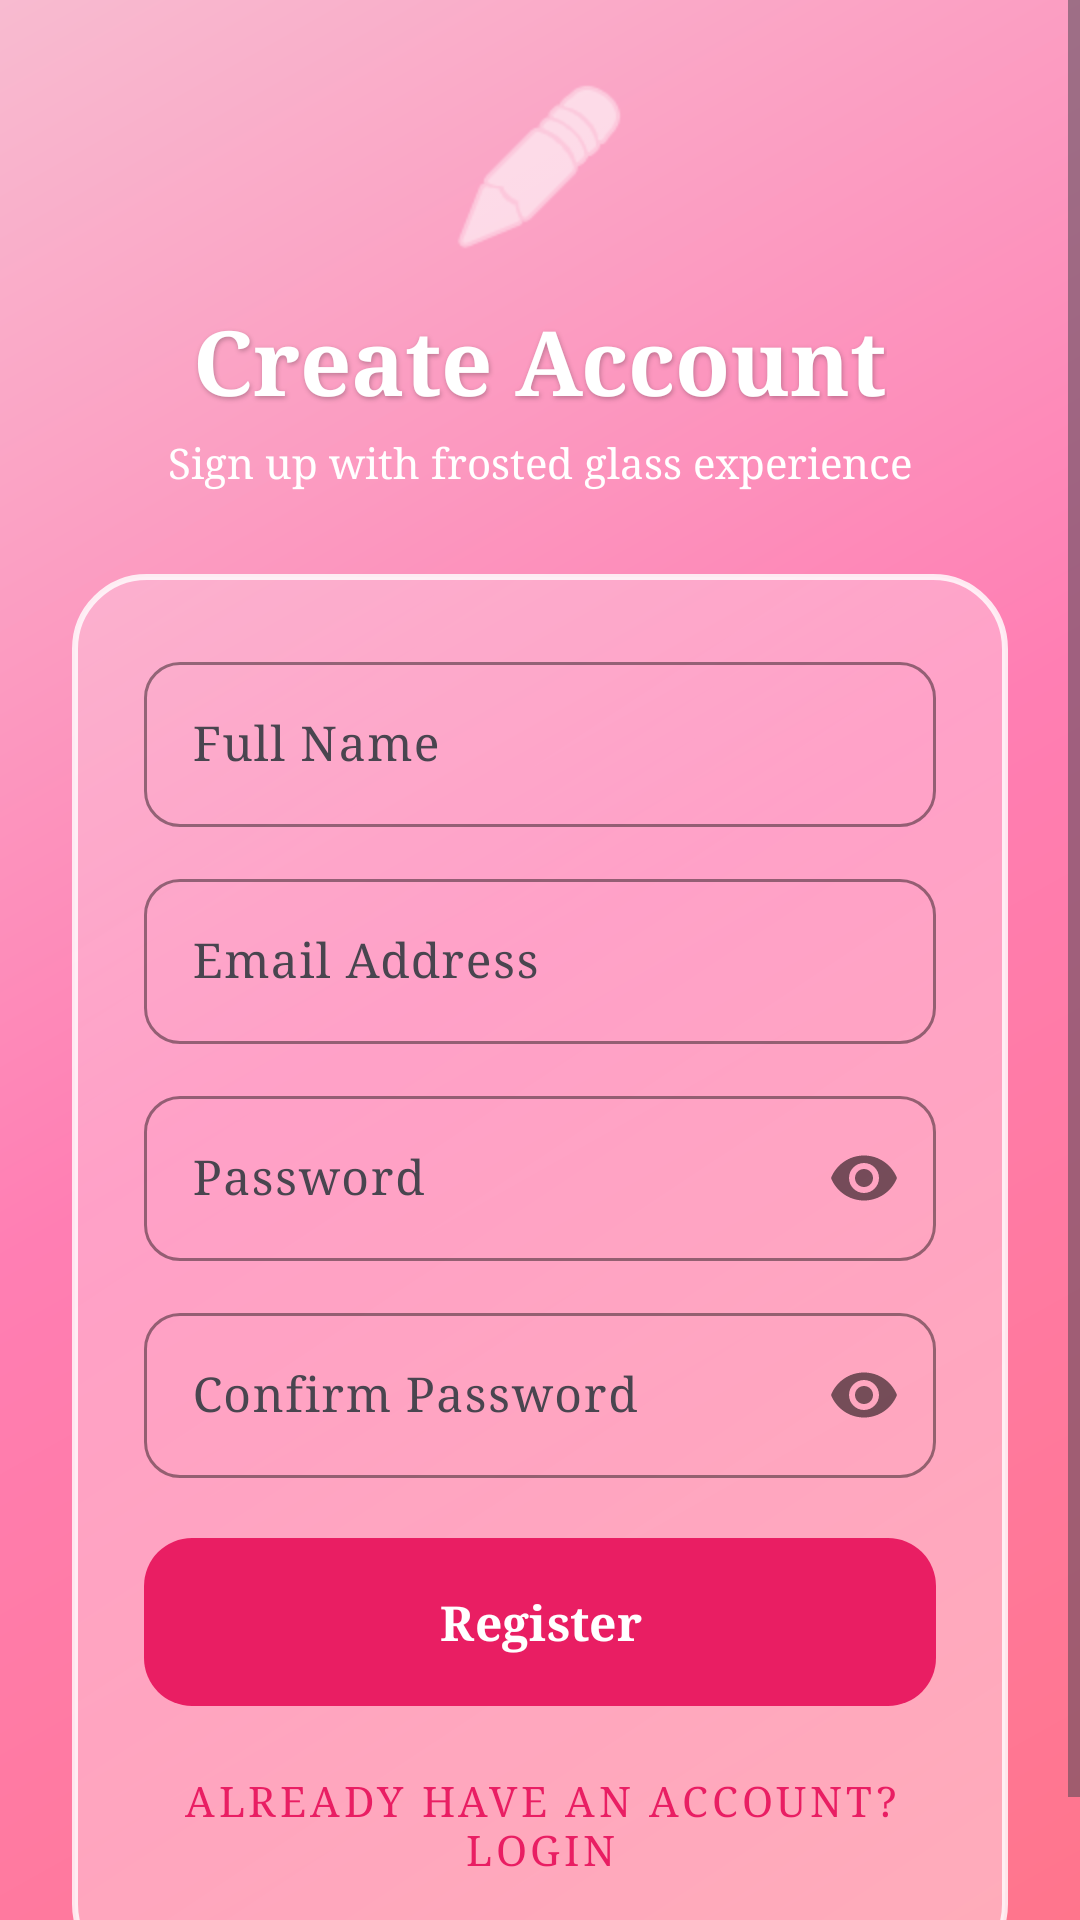

Locate icon controls on the screen. Image size 1080 × 1920, boxes as (x1, y1, x2, y2).
Register Icon: (459, 86, 620, 247)
